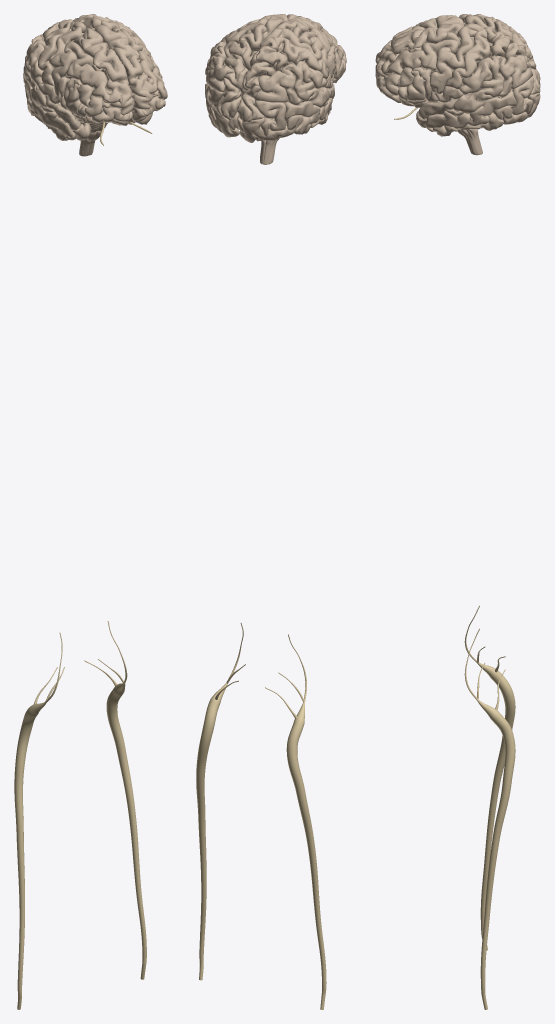
Rendered from nerve-detail.glb.
3 renders of one model, left to right at view 1: azimuth 30°, elevation 25°; view 2: azimuth 150°, elevation 25°; view 3: azimuth 270°, elevation 25°, orthographic.
Parts seen in each view (by area): view 1: brain_r, brain_l, sciatic_r, sciatic_l, brainstem; view 2: brain_r, brain_l, sciatic_r, sciatic_l, brainstem; view 3: brain_l, sciatic_l, sciatic_r, brain_r.
Boxes of the visible parts, left/top/right/bottom form: brain_r: left=23, top=19, right=134, bottom=140; brain_l: left=73, top=14, right=167, bottom=124; sciatic_r: left=14, top=632, right=64, bottom=1009; sciatic_l: left=84, top=621, right=146, bottom=979; brainstem: left=79, top=121, right=107, bottom=156; brain_r: left=237, top=16, right=346, bottom=142; brain_l: left=205, top=14, right=304, bottom=137; sciatic_r: left=265, top=634, right=326, bottom=1009; sciatic_l: left=196, top=623, right=245, bottom=980; brainstem: left=260, top=138, right=279, bottom=164; brain_l: left=375, top=23, right=540, bottom=136; sciatic_l: left=464, top=628, right=515, bottom=1009; sciatic_r: left=464, top=605, right=515, bottom=950; brain_r: left=375, top=14, right=540, bottom=101.
Bounding box in the file's own units: 0.1595 × 1.16 × 0.1807.
